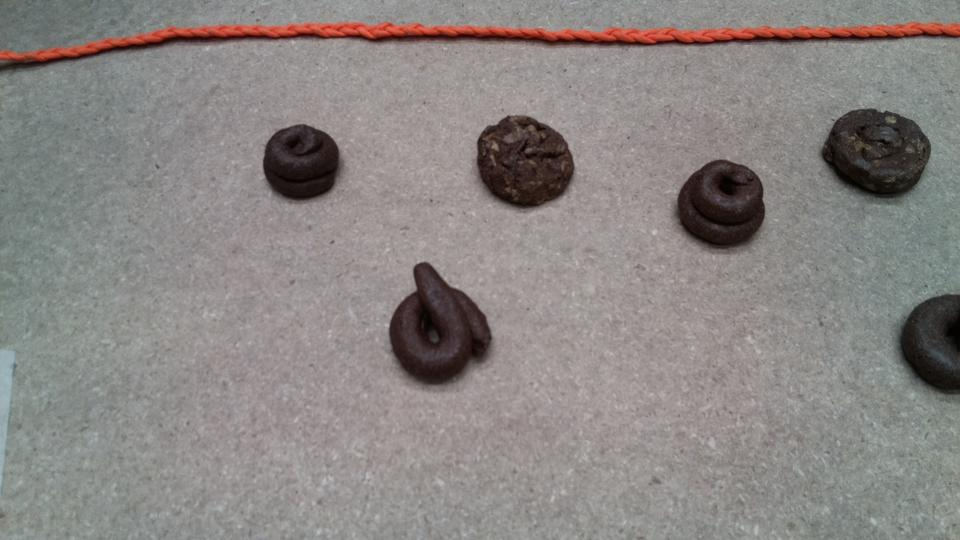poop: (376, 258, 497, 387), (818, 101, 938, 202), (471, 110, 584, 212), (671, 157, 776, 251), (261, 120, 341, 203)
rope: (192, 4, 960, 55), (3, 25, 216, 70)
